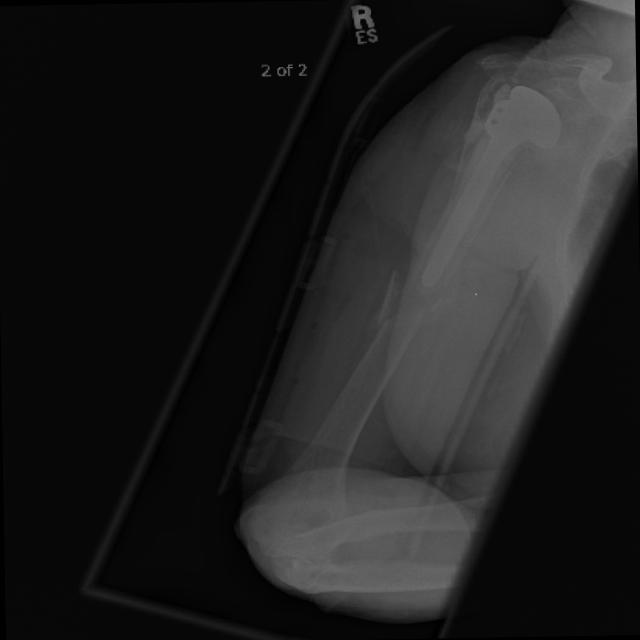humerus fracture: (325, 242, 458, 369)
